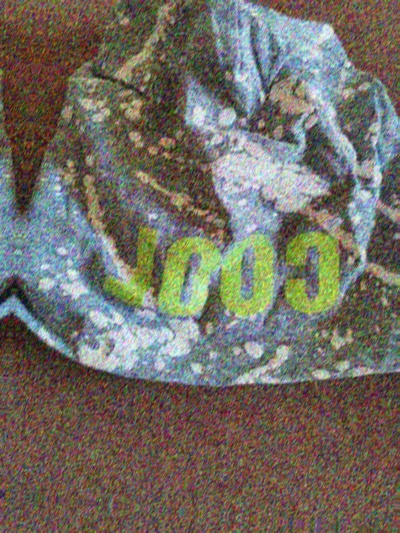Hat: (12, 0, 400, 418), (0, 0, 40, 378)
